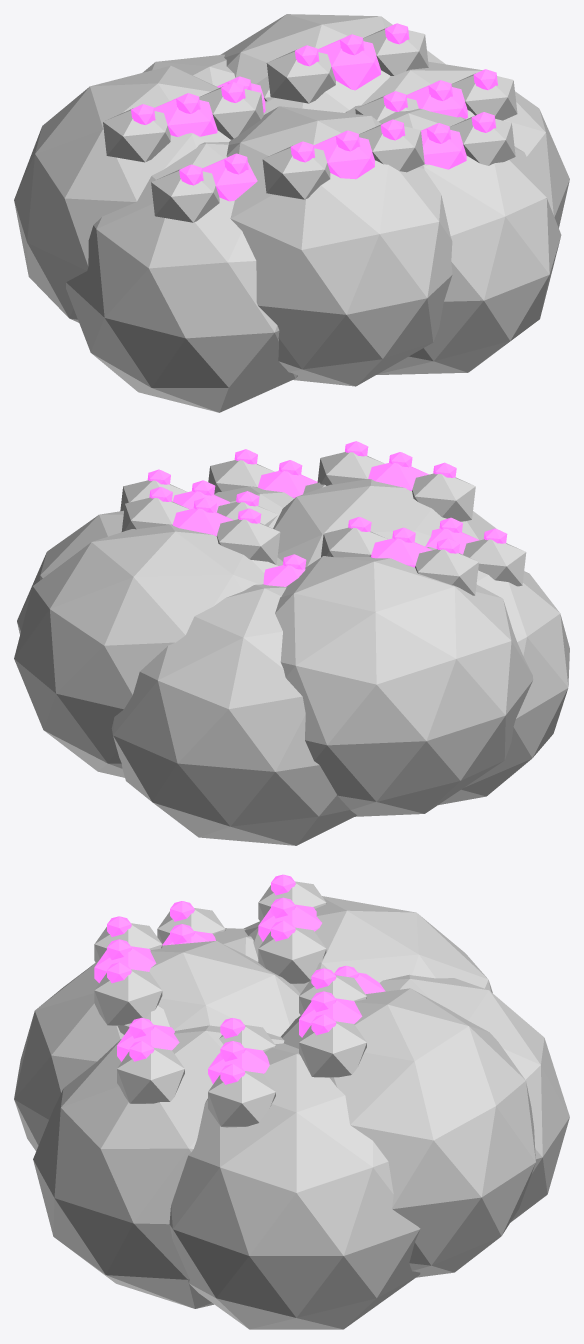
3 renders of one model, top to bottom at view 1: azimuth 30°, elevation 25°; view 2: azimuth 150°, elevation 25°; view 3: azimuth 270°, elevation 25°, orthographic. The views are drawn at different scales.
Parts seen in each view (by area): view 1: Neon_FlowerBush_Showcase; view 2: Neon_FlowerBush_Showcase; view 3: Neon_FlowerBush_Showcase.
Part boxes in pixels (x1,y1,x2,y2): Neon_FlowerBush_Showcase: [14, 14, 569, 412]; Neon_FlowerBush_Showcase: [14, 441, 569, 845]; Neon_FlowerBush_Showcase: [14, 874, 569, 1329].
Bounding box in the file's own units: 1.66 × 0.92 × 1.53.
